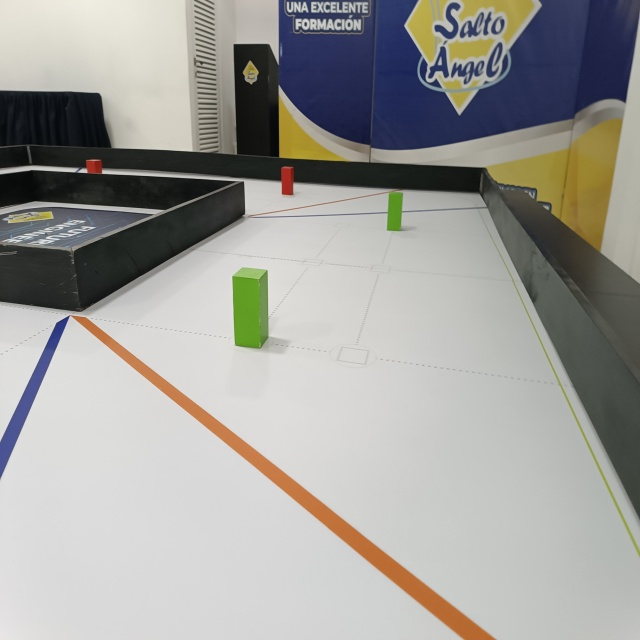blue line: (0, 313, 68, 481), (244, 203, 487, 220)
green rectangular prism: (229, 263, 274, 355), (385, 190, 405, 232)
orange line: (69, 315, 498, 639), (244, 188, 386, 218)
red rectangular prism: (279, 164, 297, 198)
